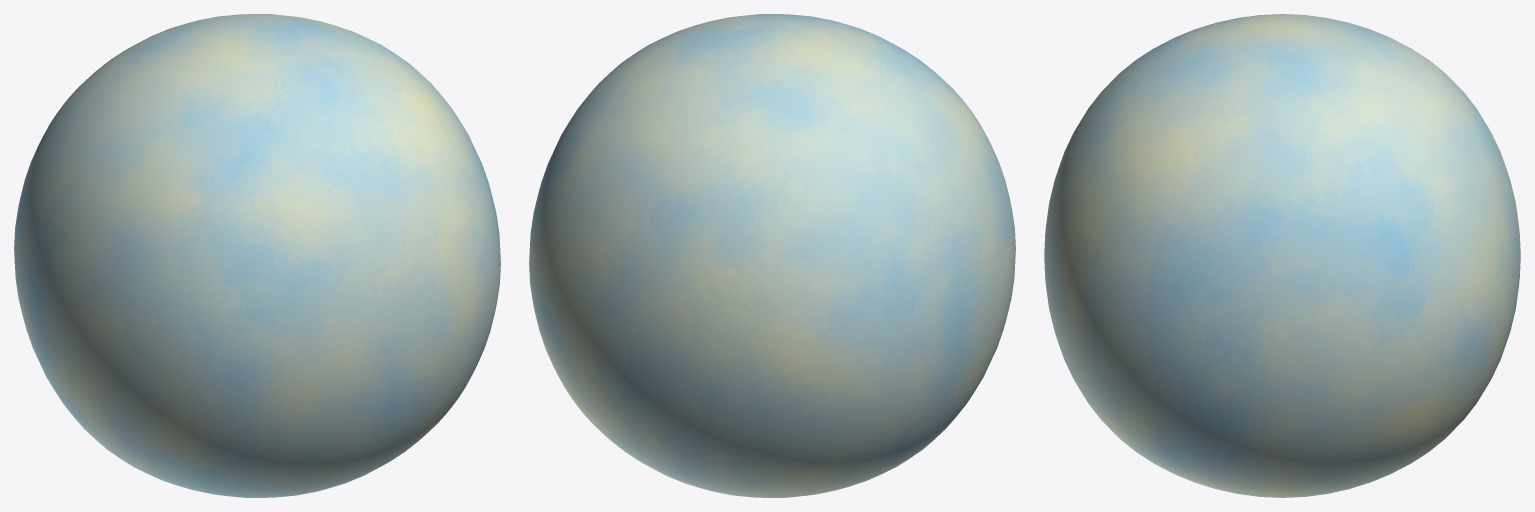
The model's file is cubeSphere2.glb.
The picture shows the model from 3 angles, left to right: view 1: azimuth 30°, elevation 25°; view 2: azimuth 150°, elevation 25°; view 3: azimuth 270°, elevation 25°; orthographic projection.
Visible parts, largest first — view 1: Cube; view 2: Cube; view 3: Cube.
Boxes of the visible parts, x1,y1,x2,y2 form: Cube: [14, 14, 500, 497]; Cube: [529, 14, 1015, 497]; Cube: [1044, 14, 1520, 497].
Bounding box in the file's own units: 1.68 × 1.68 × 1.68.
1 material, 1 textured.
